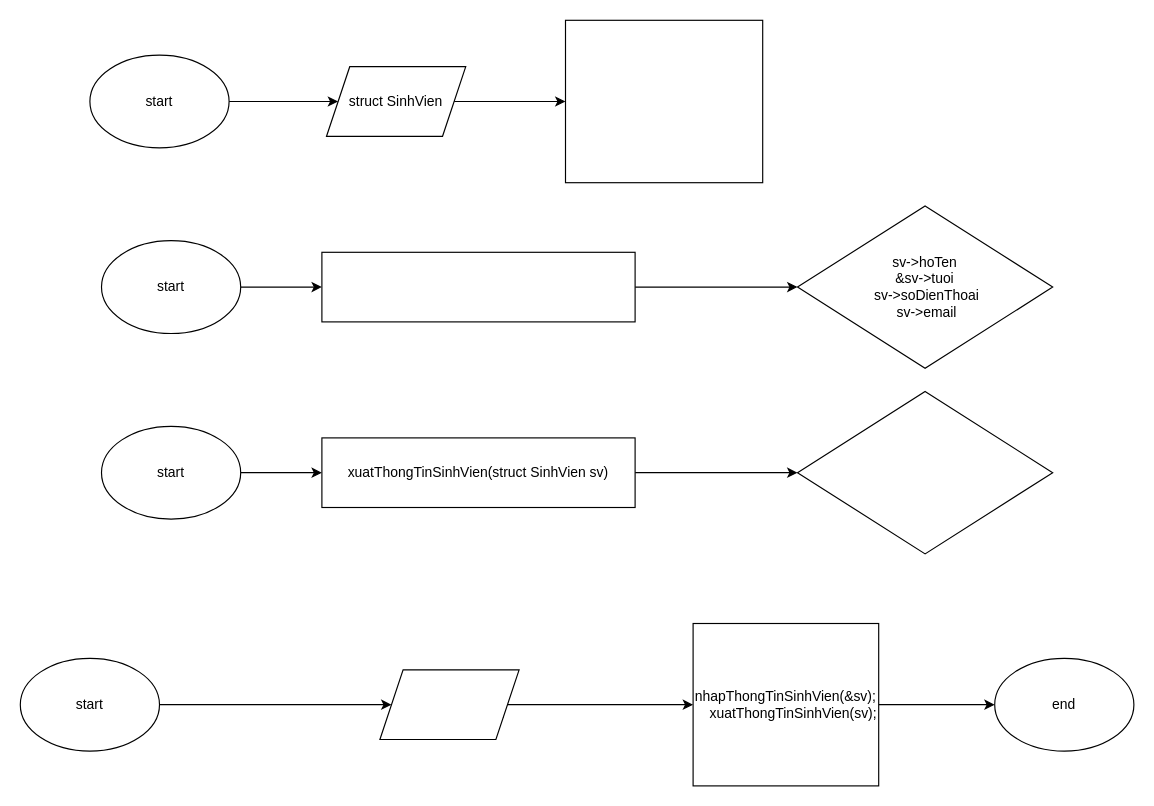
Image size: 1154x806. Some labels were removed from this diagram. The centre of each missing label's shape, as x and y in pixels:
char hoTen[50]; int tuoi; char soDienThoai[20]; char email[50];: point 663,101
nhapThongTinSinhVien(struct SinhVien *sv): point 478,286
struct SinhVien sv: point 449,704
sv.hoTen sv.tuoi sv.soDienThoai sv.email: point 924,472
